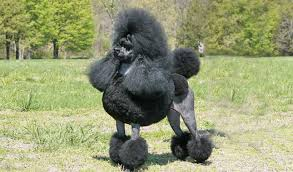Poodle: (77, 5, 223, 168)
